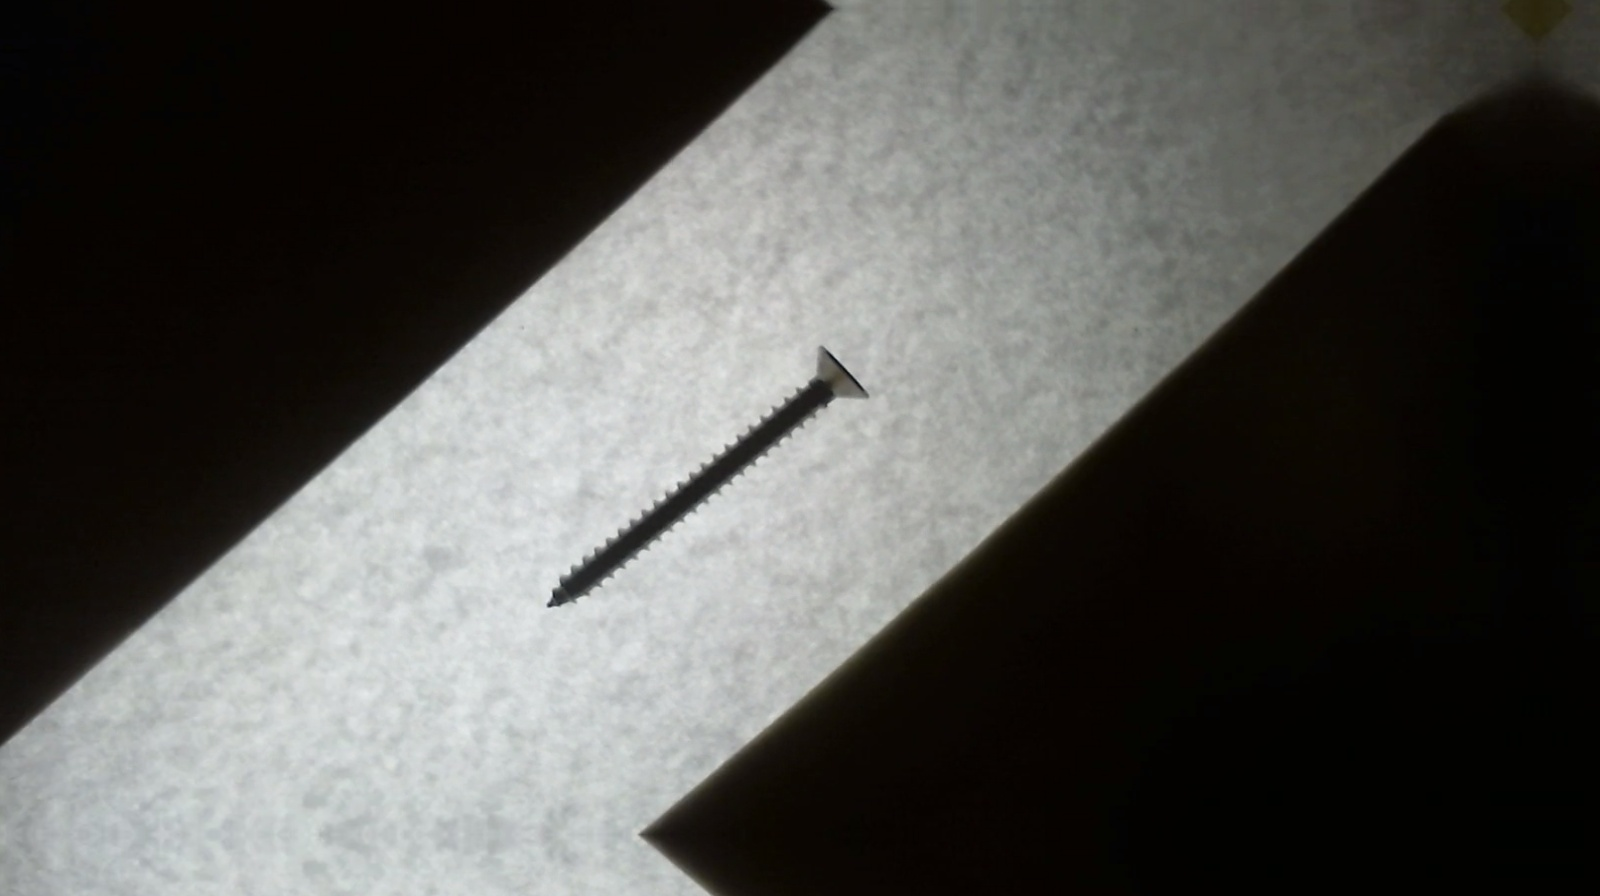S002: (534, 340, 879, 615)
